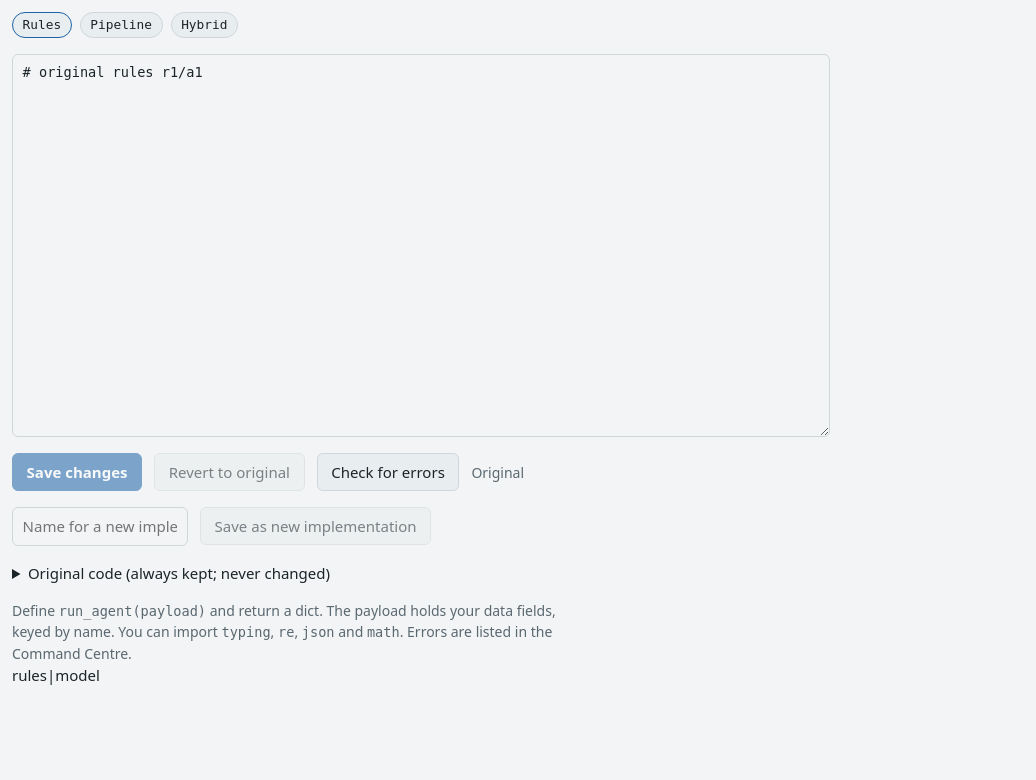
Scenario: CodePanel revert (built-ins) › reports a failed revert
Replace the text in the text box named "Python Source" with "x = 1" at (421, 246), box [12,54,830,437]
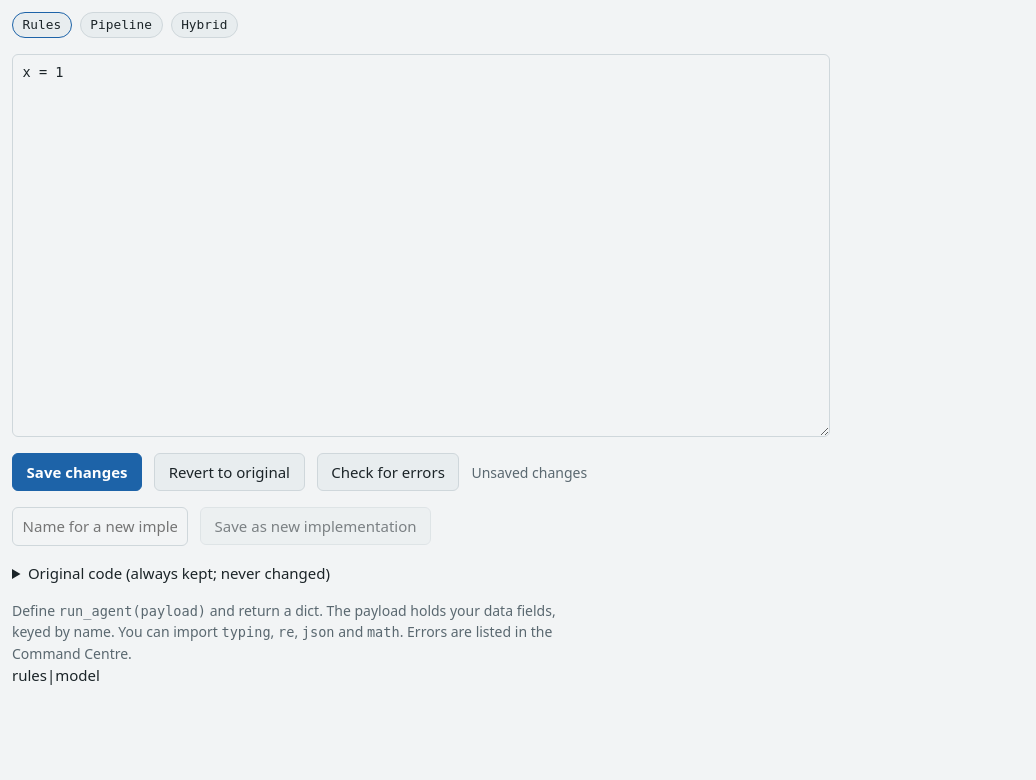
Click the button "Revert to original" at (229, 472), box [154,453,305,491]
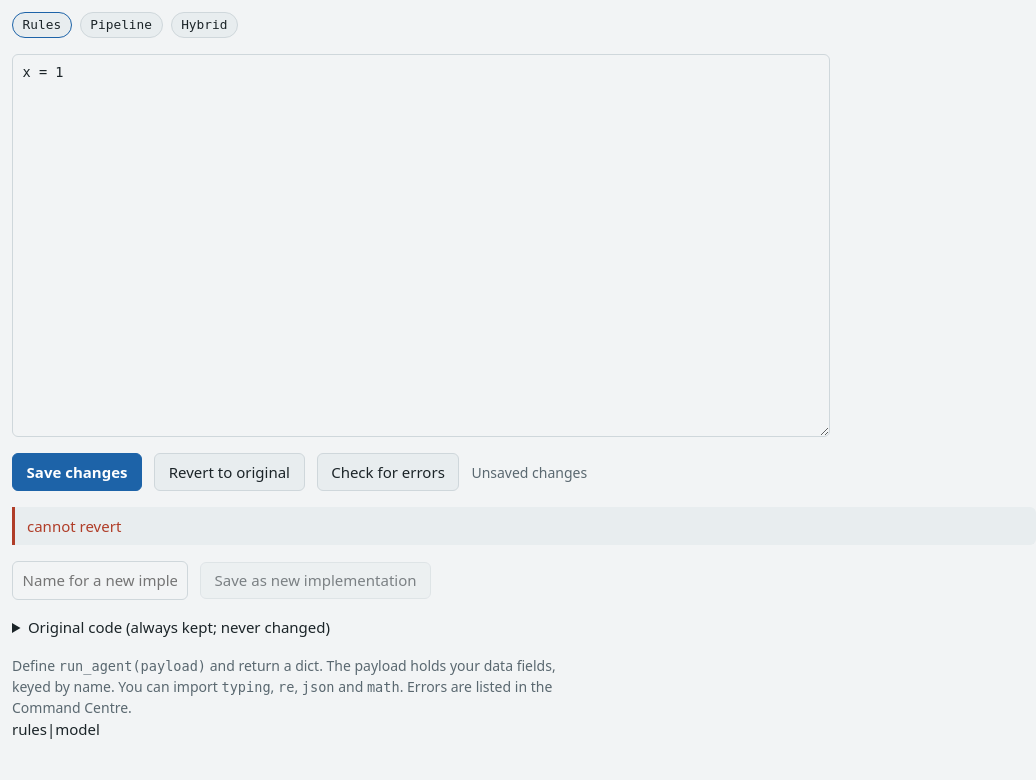
Result: the text "cannot revert" is shown at [12,507,1035,545]
